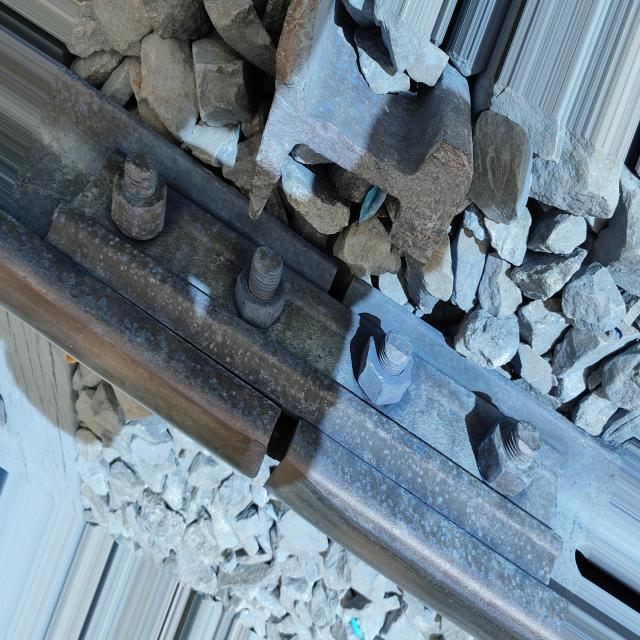Good Joint: (16, 154, 619, 582)
